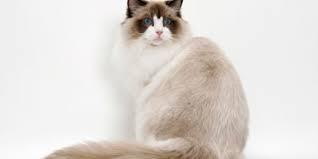ragdoll: (124, 1, 184, 53)
